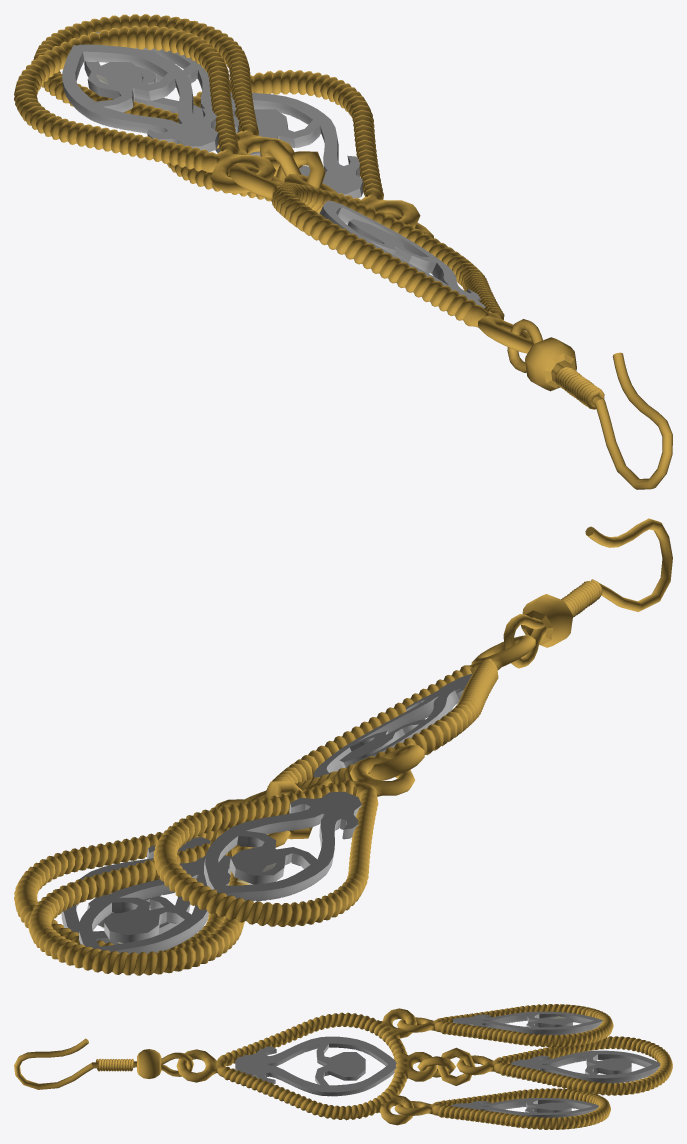
3 renders of one model, top to bottom at view 1: azimuth 30°, elevation 25°; view 2: azimuth 150°, elevation 25°; view 3: azimuth 270°, elevation 25°, orthographic. The views are drawn at different scales.
Parts seen in each view (by area): view 1: 11763_Earings_gold008; view 2: 11763_Earings_gold008; view 3: 11763_Earings_gold008.
Boxes of the visible parts, x1,y1,x2,y2 form: 11763_Earings_gold008: (14,14,672,489); 11763_Earings_gold008: (14,518,672,975); 11763_Earings_gold008: (14,1004,672,1129).
Size of the model in its own units: 2.44 by 0.9079 by 7.61.
